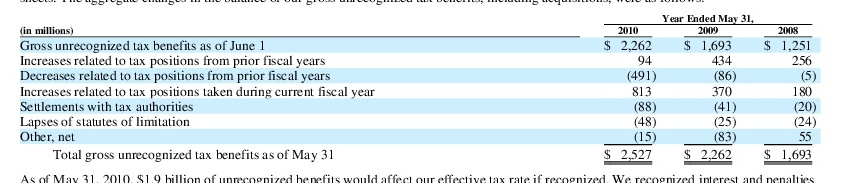table: (0, 0, 844, 183)
